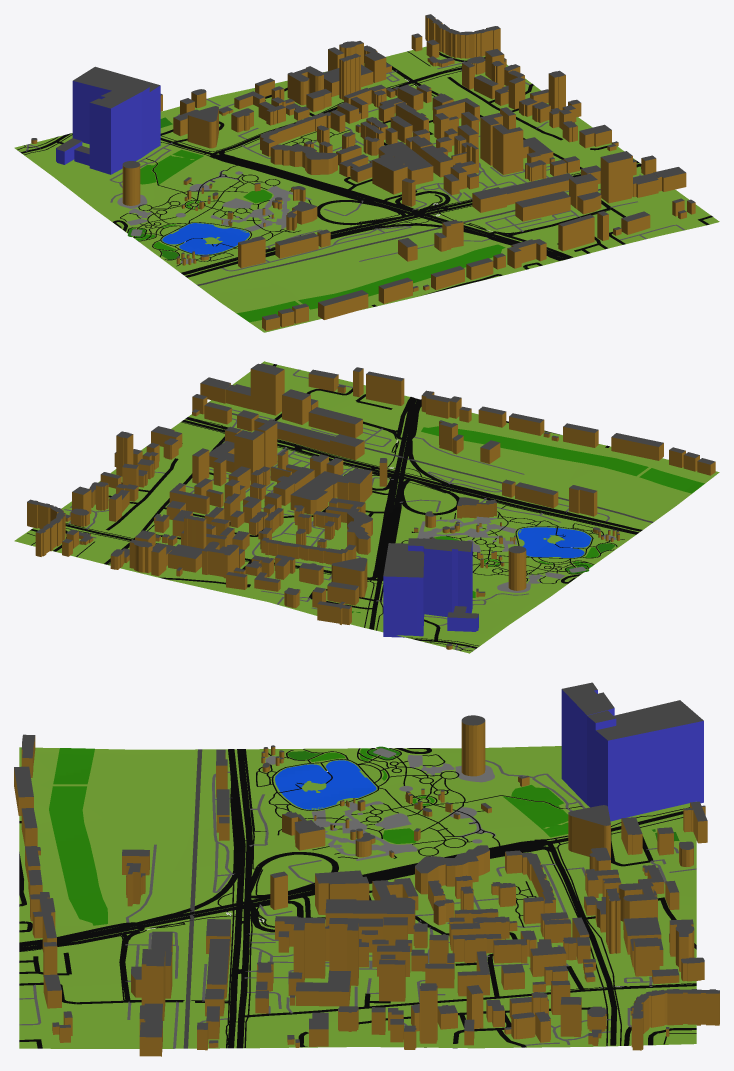
File: tile_06_03.glb
3 views of the same model, one above another, from view 1: azimuth 30°, elevation 25°; view 2: azimuth 150°, elevation 25°; view 3: azimuth 270°, elevation 25° (orthographic). The views are drawn at different scales.
Visible parts, largest first — view 1: Ub_small.osm_buildings_06_03, Terrain_06_03, Shangrilla_06_03, Ub_small.osm_roads_primary_06_03, Ub_small.osm_vegetation_06_03, Ub_small.osm_paths_footway_06_03, Ub_small.osm_roads_service_06_03, Ub_small.osm_areas_pedestrian_06_03, Ub_small.osm_water_06_03, Ub_small.osm_roads_residential_06_03, Ub_small.osm_roads_secondary_06_03, Ub_small.osm_railways_06_03 (+1 smaller); view 2: Ub_small.osm_buildings_06_03, Terrain_06_03, Shangrilla_06_03, Ub_small.osm_roads_primary_06_03, Ub_small.osm_vegetation_06_03, Ub_small.osm_paths_footway_06_03, Ub_small.osm_roads_service_06_03, Ub_small.osm_water_06_03, Ub_small.osm_areas_pedestrian_06_03, Ub_small.osm_roads_residential_06_03, Ub_small.osm_roads_secondary_06_03, Ub_small.osm_roads_tertiary_06_03; view 3: Terrain_06_03, Ub_small.osm_buildings_06_03, Shangrilla_06_03, Ub_small.osm_roads_primary_06_03, Ub_small.osm_vegetation_06_03, Ub_small.osm_paths_footway_06_03, Ub_small.osm_roads_service_06_03, Ub_small.osm_roads_residential_06_03, Ub_small.osm_areas_pedestrian_06_03, Ub_small.osm_water_06_03, Ub_small.osm_roads_secondary_06_03, Ub_small.osm_roads_tertiary_06_03 (+1 smaller).
Boxes of the visible parts, <box> form: Ub_small.osm_buildings_06_03: <box>31,14,695,330</box>; Terrain_06_03: <box>14,46,719,332</box>; Shangrilla_06_03: <box>56,66,160,174</box>; Ub_small.osm_roads_primary_06_03: <box>160,138,641,277</box>; Ub_small.osm_vegetation_06_03: <box>135,149,505,322</box>; Ub_small.osm_paths_footway_06_03: <box>17,51,640,277</box>; Ub_small.osm_roads_service_06_03: <box>19,61,684,271</box>; Ub_small.osm_areas_pedestrian_06_03: <box>117,170,311,263</box>; Ub_small.osm_water_06_03: <box>162,223,249,254</box>; Ub_small.osm_roads_residential_06_03: <box>57,52,712,306</box>; Ub_small.osm_roads_secondary_06_03: <box>212,67,572,260</box>; Ub_small.osm_railways_06_03: <box>197,189,600,285</box>; Ub_small.osm_buildings_06_03: <box>27,363,715,649</box>; Terrain_06_03: <box>14,361,719,653</box>; Shangrilla_06_03: <box>383,538,478,637</box>; Ub_small.osm_roads_primary_06_03: <box>182,398,642,629</box>; Ub_small.osm_vegetation_06_03: <box>421,426,704,597</box>; Ub_small.osm_paths_footway_06_03: <box>27,399,640,651</box>; Ub_small.osm_roads_service_06_03: <box>64,369,609,650</box>; Ub_small.osm_water_06_03: <box>517,527,591,557</box>; Ub_small.osm_areas_pedestrian_06_03: <box>417,516,616,592</box>; Ub_small.osm_roads_residential_06_03: <box>30,364,609,640</box>; Ub_small.osm_roads_secondary_06_03: <box>65,397,421,580</box>; Ub_small.osm_roads_tertiary_06_03: <box>104,413,477,648</box>; Terrain_06_03: <box>19,746,696,1048</box>; Ub_small.osm_buildings_06_03: <box>14,715,719,1056</box>; Shangrilla_06_03: <box>561,682,703,821</box>; Ub_small.osm_roads_primary_06_03: <box>19,749,683,1048</box>; Ub_small.osm_vegetation_06_03: <box>49,748,568,925</box>; Ub_small.osm_paths_footway_06_03: <box>19,748,696,1048</box>; Ub_small.osm_roads_service_06_03: <box>19,760,696,1048</box>; Ub_small.osm_roads_residential_06_03: <box>19,821,696,1048</box>; Ub_small.osm_areas_pedestrian_06_03: <box>265,748,495,860</box>; Ub_small.osm_water_06_03: <box>275,760,376,809</box>; Ub_small.osm_roads_secondary_06_03: <box>19,842,617,1045</box>; Ub_small.osm_roads_tertiary_06_03: <box>120,931,696,1017</box>.
Bounding box in the file's own units: 1007 × 140 × 969.
